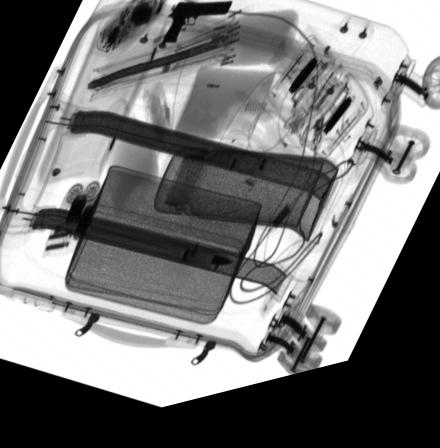Bullet: (180, 257, 232, 277)
Gun: (162, 10, 232, 51)
